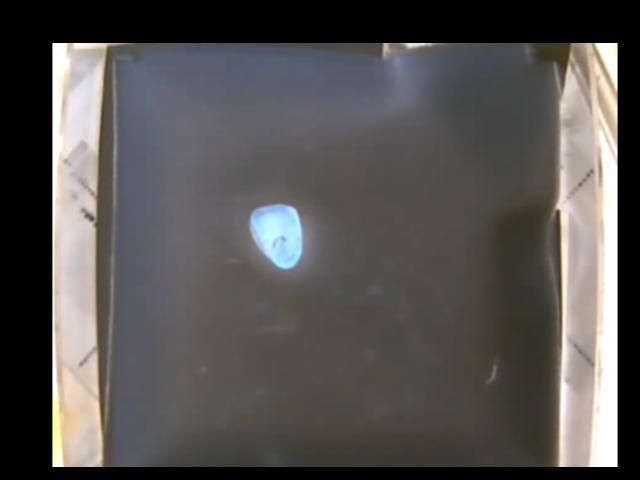Pebble: (249, 202, 304, 269)
